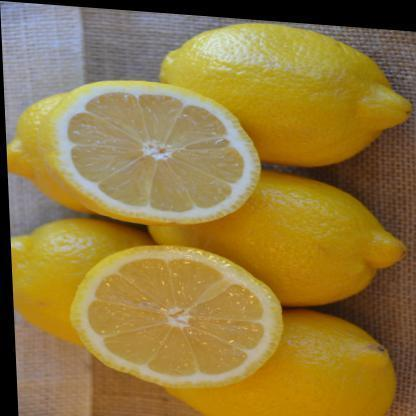lemon: (6, 80, 262, 226), (147, 168, 409, 307), (160, 23, 412, 167), (69, 244, 283, 390), (164, 308, 396, 416), (11, 217, 158, 345)
